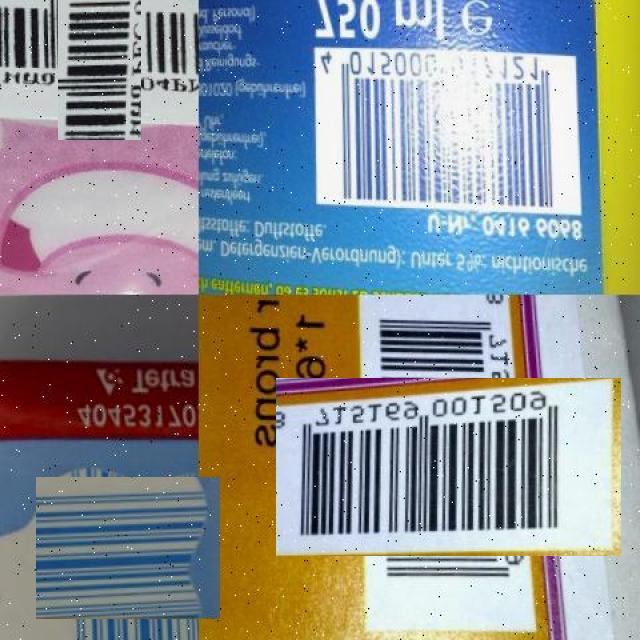Barcode: (318, 336, 580, 598), (314, 51, 583, 217), (46, 466, 210, 629), (30, 0, 170, 112)
